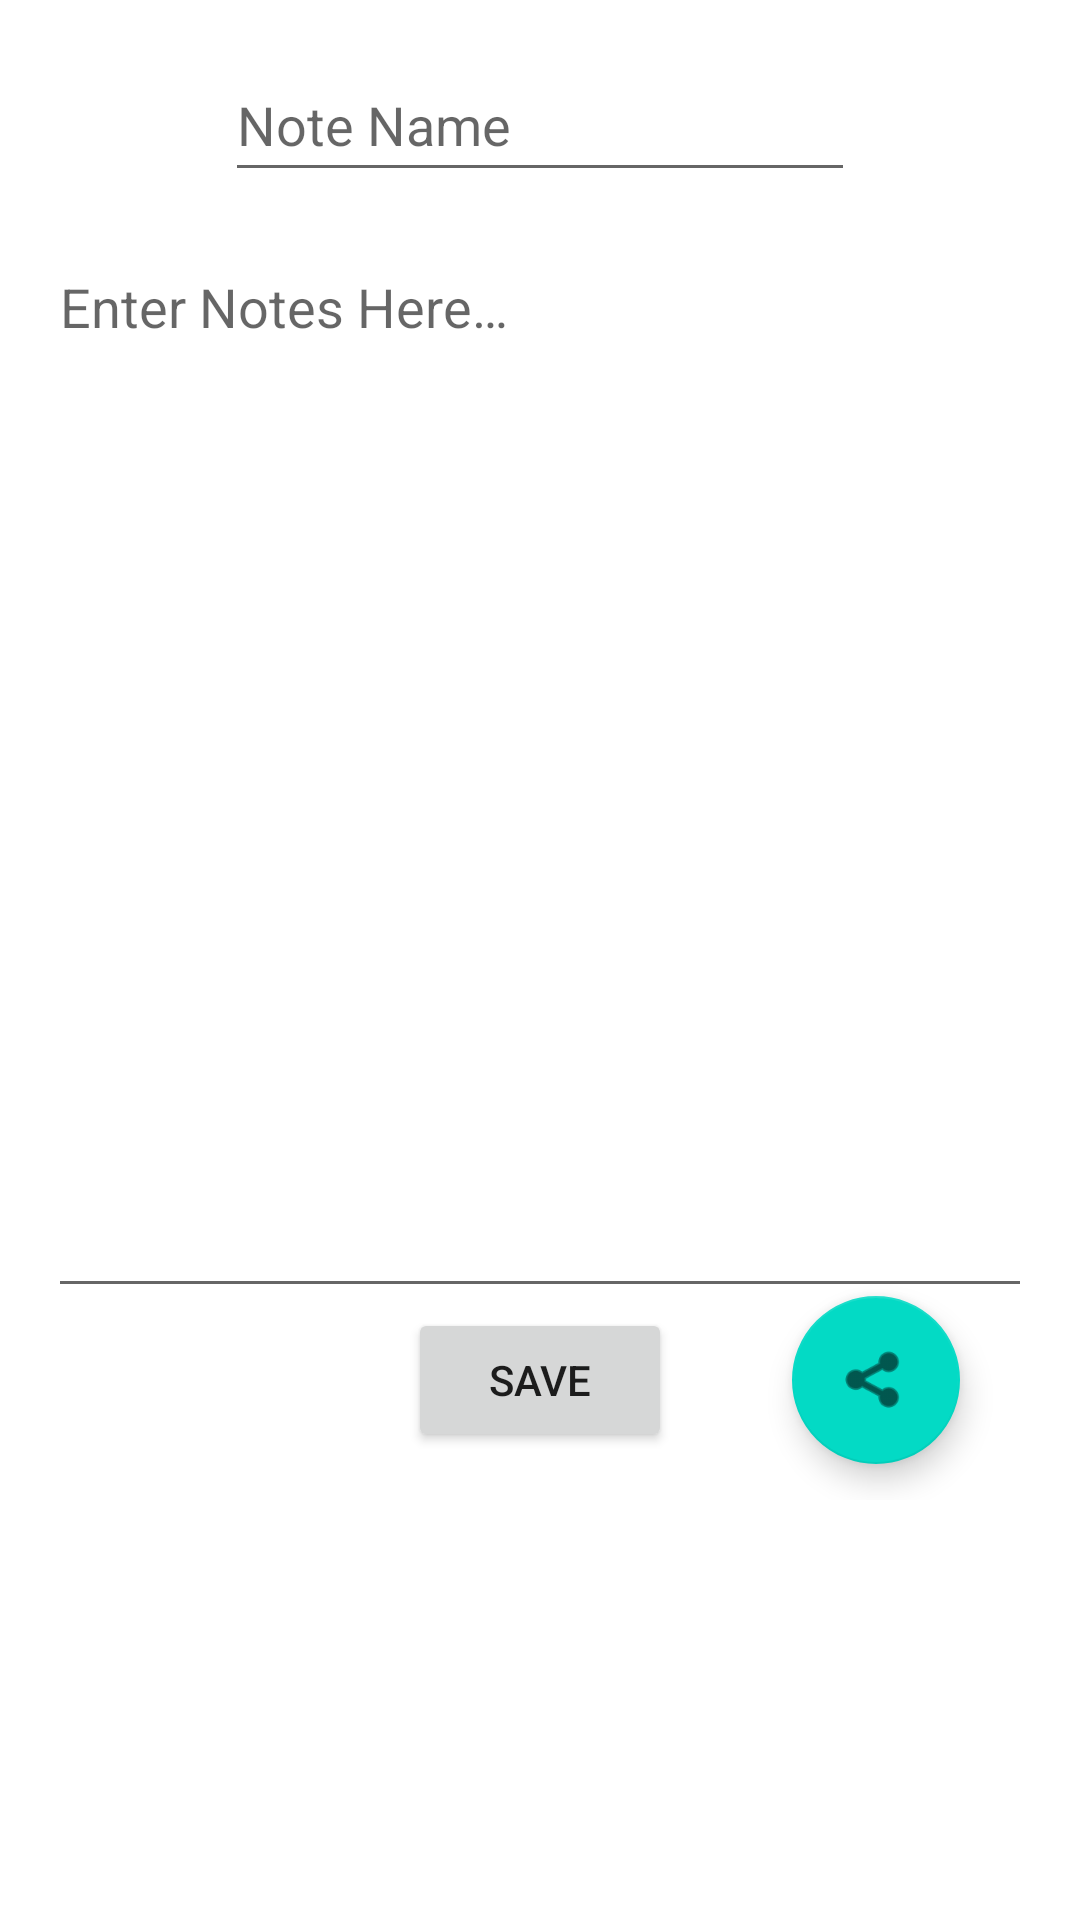

Icon bounding boxes for this 1080*1920 phone screenshot, format (x1, y1, x2, y2):
share: (792, 1296, 960, 1464)
